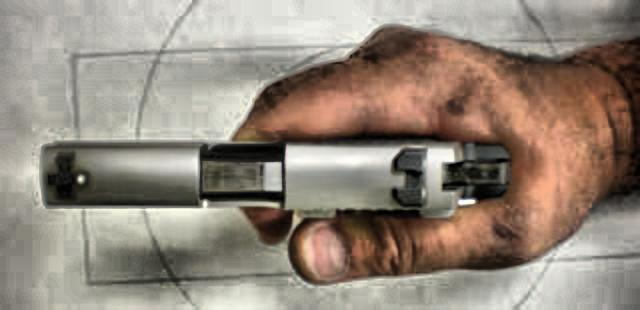pistol: (38, 132, 512, 220)
